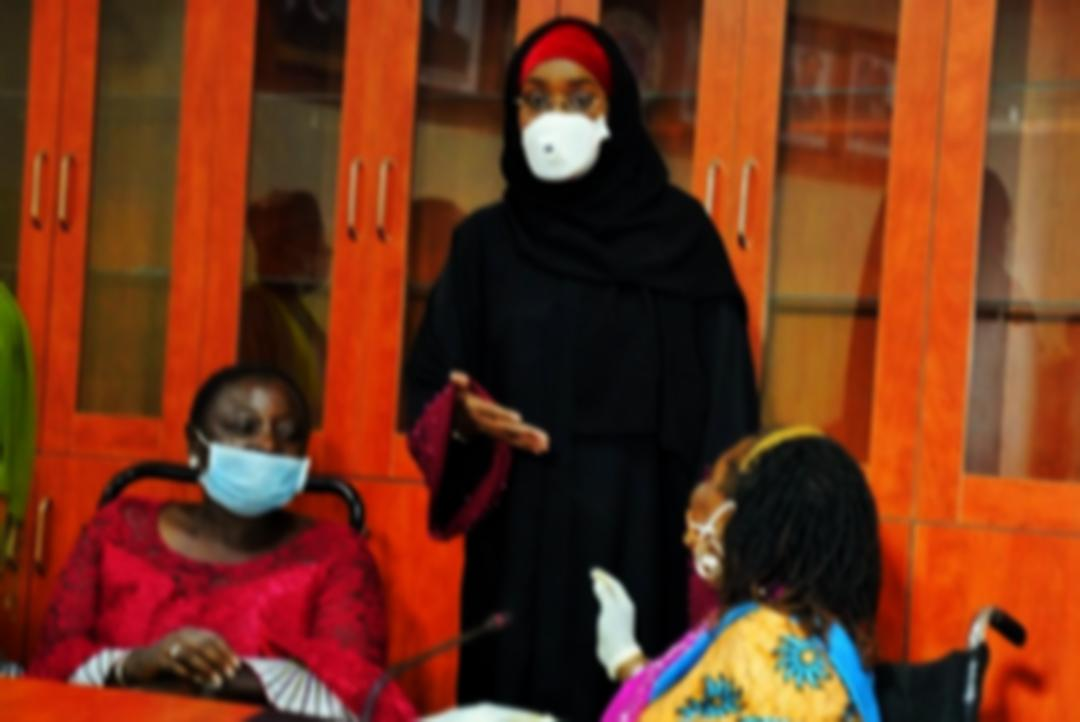mask_weared_incorrect: (185, 364, 312, 517)
